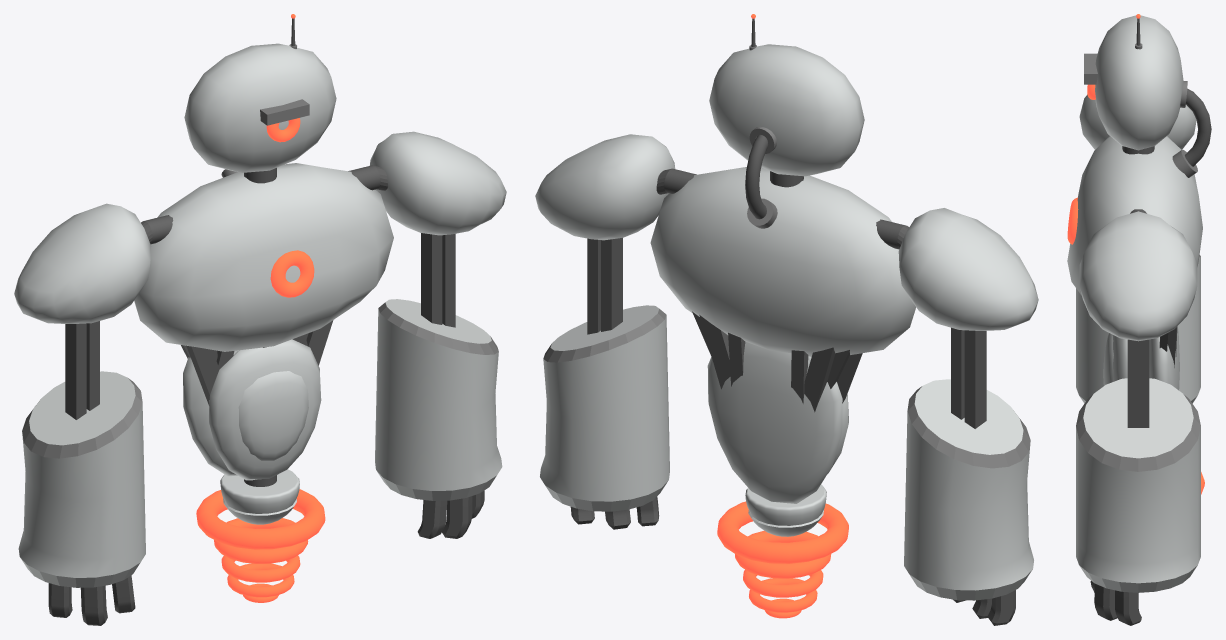
Rendered from MEDIUM ROBOT FLOATING.fbx.
The picture shows the model from 3 angles, left to right: view 1: azimuth 30°, elevation 25°; view 2: azimuth 150°, elevation 25°; view 3: azimuth 270°, elevation 25°; orthographic projection. The views are drawn at different scales.
Visible parts, largest first — view 1: polySurface31, polySurface6, polySurface25, polySurface4, polySurface5, polySurface44, polySurface7, pTorus5, pSphere2, polySurface47, polySurface41, polySurface18 (+9 smaller); view 2: polySurface31, polySurface6, polySurface25, polySurface47, polySurface4, polySurface5, pTorus5, pSphere2, polySurface41, polySurface18, pTorus6, polySurface48 (+8 smaller); view 3: polySurface31, polySurface5, polySurface6, polySurface25, polySurface42, polySurface4, polySurface47, polySurface49, polySurface44, polySurface7, polySurface51, polySurface9 (+2 smaller).
Part boxes in pixels (bbox=[...]): polySurface31: bbox=[18, 299, 502, 625]; polySurface6: bbox=[134, 163, 393, 351]; polySurface25: bbox=[184, 43, 336, 172]; polySurface4: bbox=[14, 203, 151, 323]; polySurface5: bbox=[369, 131, 506, 235]; polySurface44: bbox=[208, 339, 321, 480]; polySurface7: bbox=[238, 371, 308, 460]; pTorus5: bbox=[196, 489, 325, 549]; pSphere2: bbox=[220, 469, 299, 524]; polySurface47: bbox=[183, 350, 239, 476]; polySurface41: bbox=[65, 323, 86, 419]; polySurface18: bbox=[421, 233, 442, 324]; polySurface31: bbox=[540, 305, 1033, 625]; polySurface6: bbox=[650, 167, 915, 356]; polySurface25: bbox=[709, 44, 864, 176]; polySurface47: bbox=[707, 341, 842, 503]; polySurface4: bbox=[898, 208, 1038, 330]; polySurface5: bbox=[535, 134, 675, 240]; pTorus5: bbox=[717, 501, 848, 563]; pSphere2: bbox=[745, 484, 826, 536]; polySurface41: bbox=[964, 330, 986, 428]; polySurface18: bbox=[601, 238, 622, 331]; pTorus6: bbox=[735, 530, 831, 578]; polySurface48: bbox=[656, 168, 908, 249]; polySurface31: bbox=[1076, 255, 1200, 625]; polySurface5: bbox=[1079, 211, 1197, 341]; polySurface6: bbox=[1067, 136, 1202, 295]; polySurface25: bbox=[1095, 15, 1183, 150]; polySurface42: bbox=[1127, 339, 1149, 427]; polySurface4: bbox=[1079, 94, 1196, 149]; polySurface47: bbox=[1149, 326, 1179, 390]; polySurface49: bbox=[1185, 88, 1211, 166]; polySurface44: bbox=[1112, 335, 1127, 381]; polySurface7: bbox=[1103, 333, 1113, 385]; polySurface51: bbox=[1084, 53, 1097, 84]; polySurface9: bbox=[1067, 197, 1078, 244].
Bounding box in the file's own units: 11.37 × 12.96 × 3.02.
